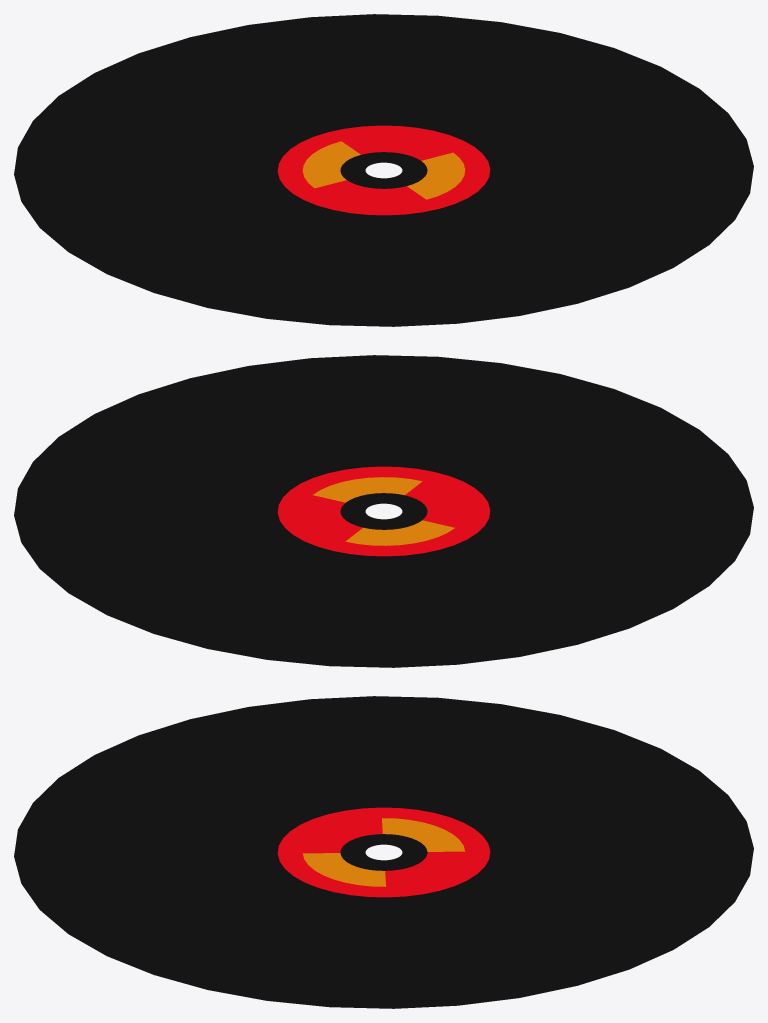
The model's file is platte.dae.
3 views of the same model, one above another, from view 1: azimuth 30°, elevation 25°; view 2: azimuth 150°, elevation 25°; view 3: azimuth 270°, elevation 25° (orthographic).
Parts seen in each view (by area): view 1: Scheibe; view 2: Scheibe; view 3: Scheibe.
Part boxes in pixels (left/top/right/bottom): Scheibe: left=14, top=14, right=753, bottom=326; Scheibe: left=14, top=355, right=753, bottom=667; Scheibe: left=14, top=696, right=753, bottom=1008.
Size of the model in its own units: 39.99 by 8.43e-07 by 39.99.
